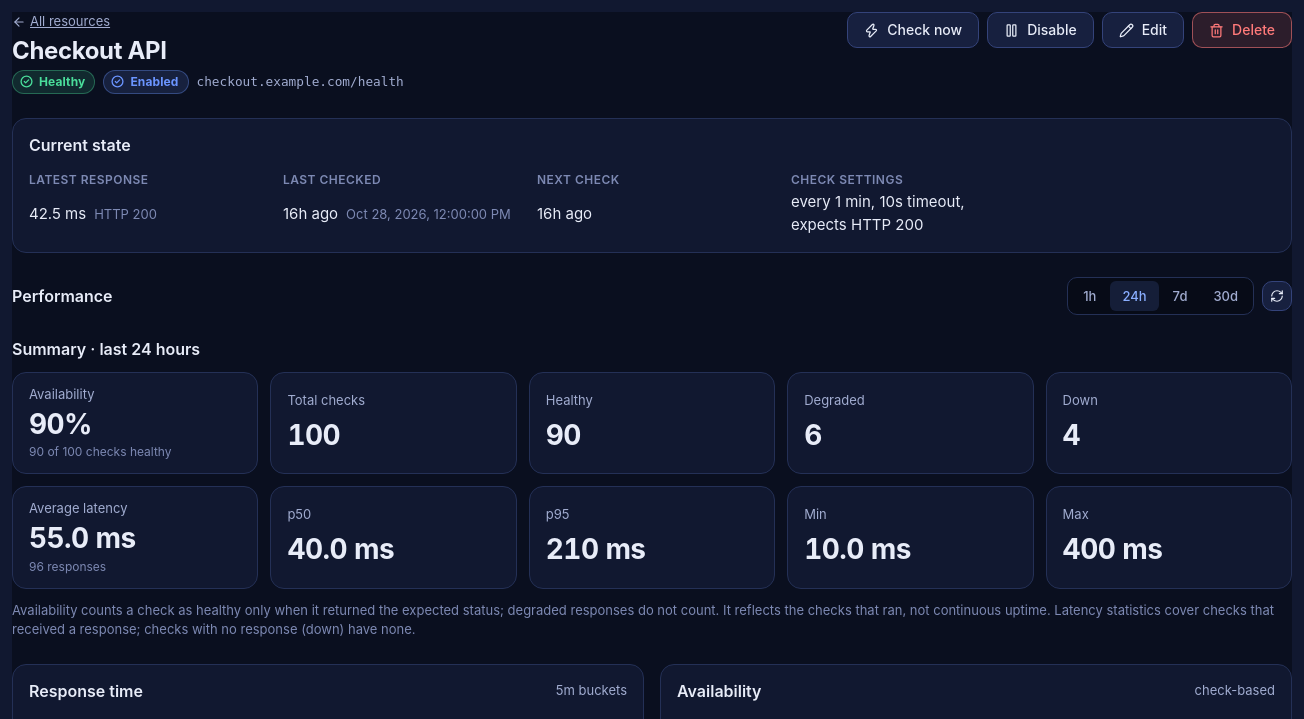
ResourceDetailPage › switches period from the selector and refetches
Expected: the text "90 of 100 checks healthy" is shown, [29,444,172,459]
Click the button "1h".
click(1090, 296)  # box [1071,281,1108,311]
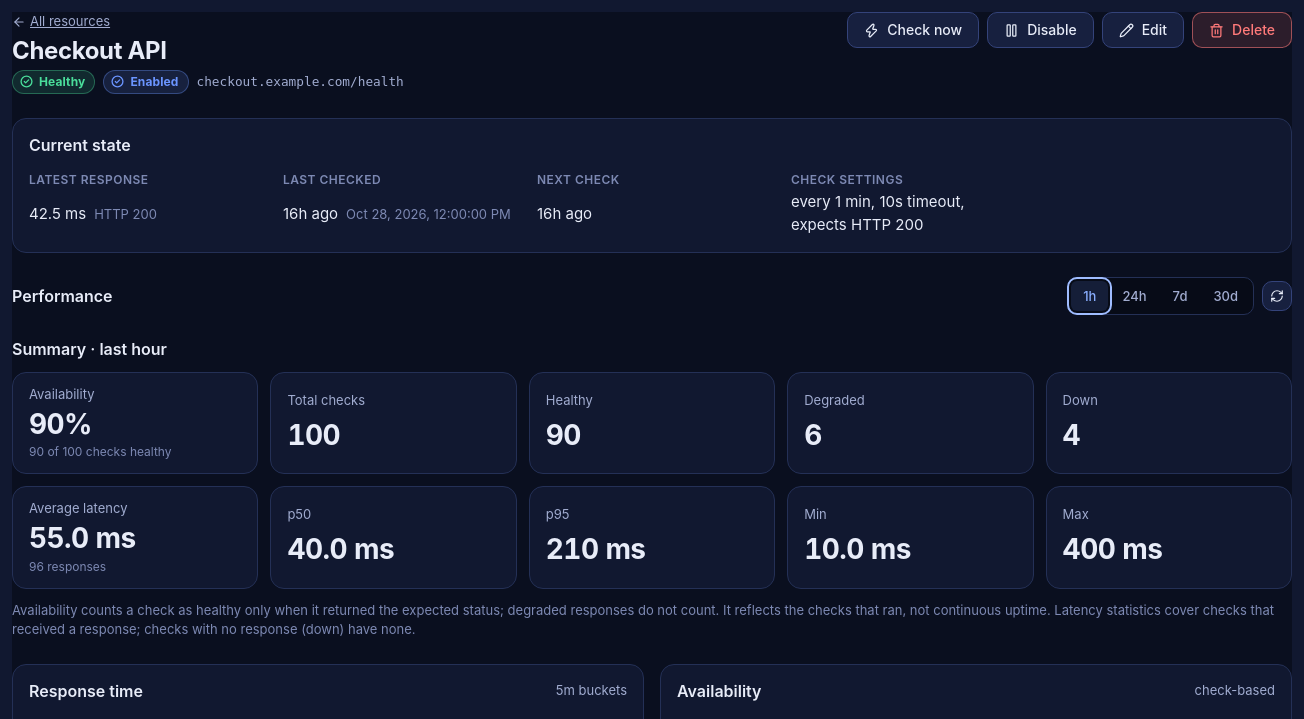
Expected: the heading "Summary · last hour" is shown, [12,339,167,359]
